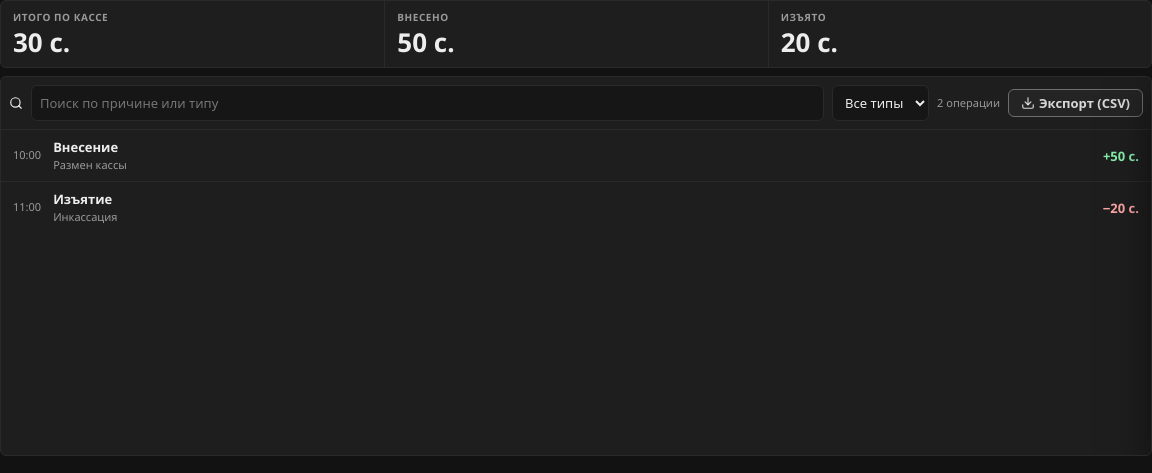
CashOperationsLedger › фильтрует по типу и показывает число видимых операций
This screenshot has width=1152, height=473.
Expected: the text "Размен кассы" is shown, [53,158,127,173]
Step 1. Select "Изъято" in the dropdown named "Тип операции" → [881, 103], box [832,85,929,121]
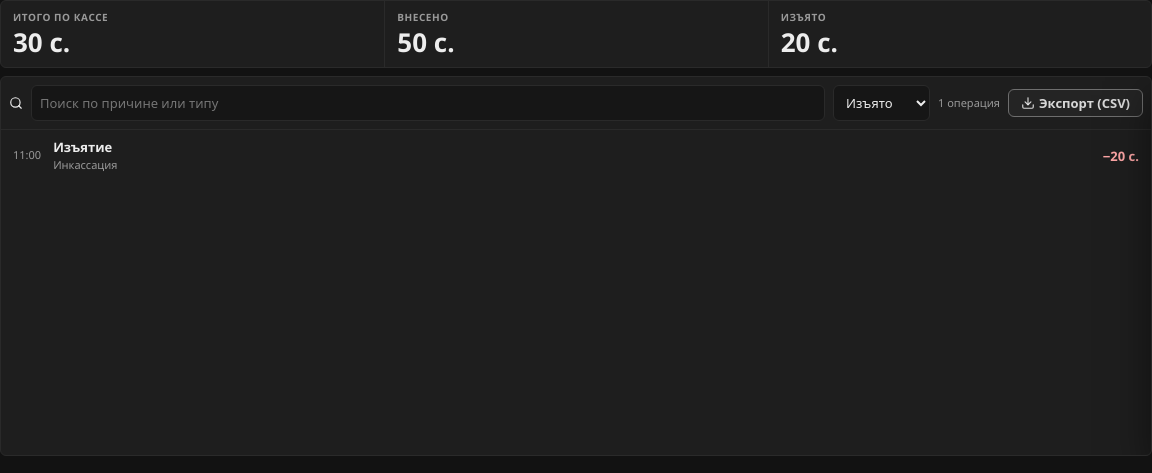
Result: the text "Размен кассы" is gone
Result: the text "1 операция" is shown at [938,96,1000,111]
